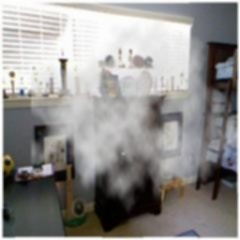smoke: (63, 61, 166, 170)
